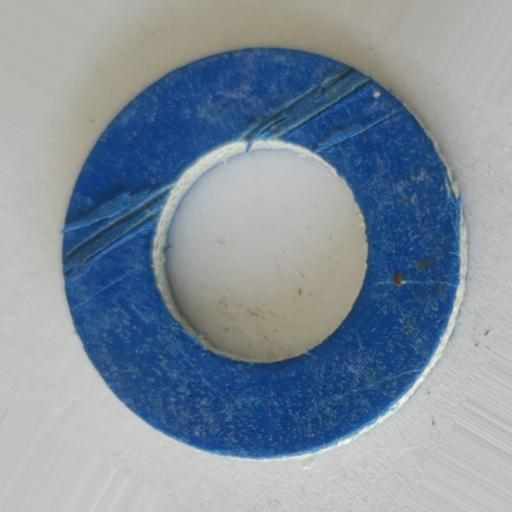defect: (241, 66, 407, 156), (62, 182, 176, 313)
